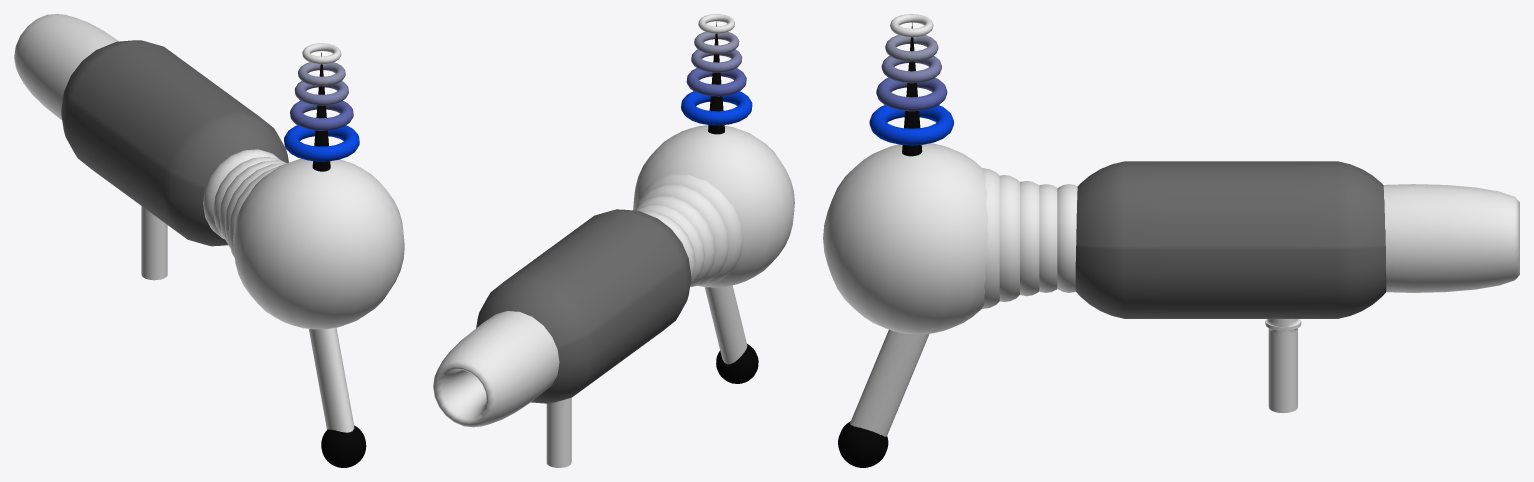
File: Bobs gun.fbx
The picture shows the model from 3 angles, left to right: view 1: azimuth 30°, elevation 25°; view 2: azimuth 150°, elevation 25°; view 3: azimuth 270°, elevation 25°; orthographic projection. The views are drawn at different scales.
Visible parts, largest first — view 1: pSphere1, pSphere2, pTorus6, pCylinder2, pTorus7, pCylinder1, pSphere3, pTorus1, pTorus8, pTorus9, pTorus10, pTorus2 (+5 smaller); view 2: pSphere1, pSphere2, pTorus6, pTorus5, pCylinder2, pTorus4, pCylinder1, pTorus7, pTorus3, pTorus8, pTorus2, pSphere3 (+5 smaller); view 3: pSphere1, pSphere2, pTorus6, pCylinder2, pCylinder1, pTorus4, pTorus3, pTorus7, pTorus1, pTorus2, pTorus5, pSphere3 (+5 smaller).
Boxes of the visible parts, x1,y1,x2,y2 form: pSphere1: [61, 40, 288, 246]; pSphere2: [233, 158, 404, 329]; pTorus6: [14, 14, 118, 120]; pCylinder2: [309, 327, 354, 432]; pTorus7: [284, 125, 359, 161]; pCylinder1: [141, 206, 167, 280]; pSphere3: [321, 425, 366, 467]; pTorus1: [203, 149, 280, 238]; pTorus8: [290, 100, 353, 130]; pTorus9: [294, 76, 348, 105]; pTorus10: [298, 62, 345, 86]; pTorus2: [213, 156, 283, 239]; pSphere1: [476, 209, 691, 403]; pSphere2: [633, 125, 794, 287]; pTorus6: [433, 311, 559, 427]; pTorus5: [637, 174, 743, 285]; pCylinder2: [704, 285, 747, 364]; pTorus4: [635, 184, 728, 286]; pCylinder1: [546, 397, 571, 467]; pTorus7: [681, 91, 752, 125]; pTorus3: [634, 195, 715, 286]; pTorus8: [686, 68, 746, 96]; pTorus2: [637, 204, 704, 284]; pSphere3: [716, 344, 758, 383]; pSphere1: [1075, 161, 1386, 318]; pSphere2: [823, 143, 987, 334]; pTorus6: [1383, 184, 1519, 292]; pCylinder2: [850, 329, 929, 436]; pCylinder1: [1265, 319, 1301, 413]; pTorus4: [999, 175, 1019, 301]; pTorus3: [1020, 181, 1039, 296]; pTorus7: [869, 105, 954, 145]; pTorus1: [1057, 184, 1077, 292]; pTorus2: [1039, 184, 1057, 292]; pTorus5: [982, 168, 999, 308]; pSphere3: [838, 421, 888, 467].
Bounding box in the file's own units: 2.18 × 5.54 × 7.88.
